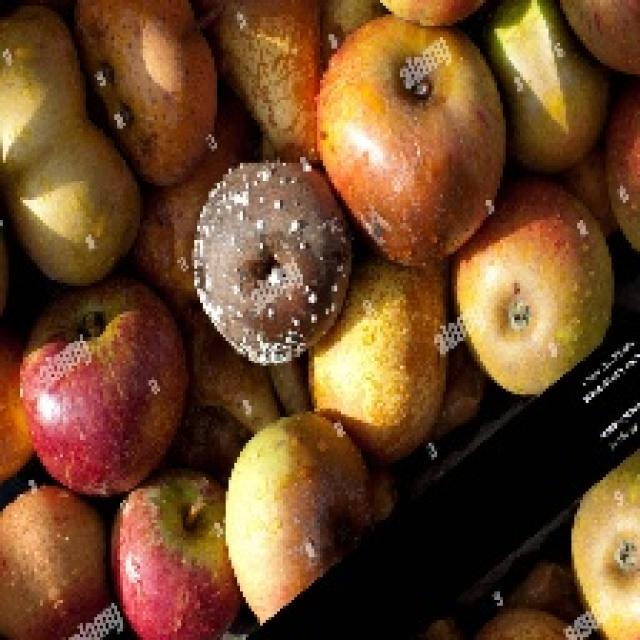rotten_apple: (196, 162, 353, 357), (237, 412, 367, 581), (3, 487, 111, 615), (109, 81, 216, 172), (80, 3, 160, 85)
